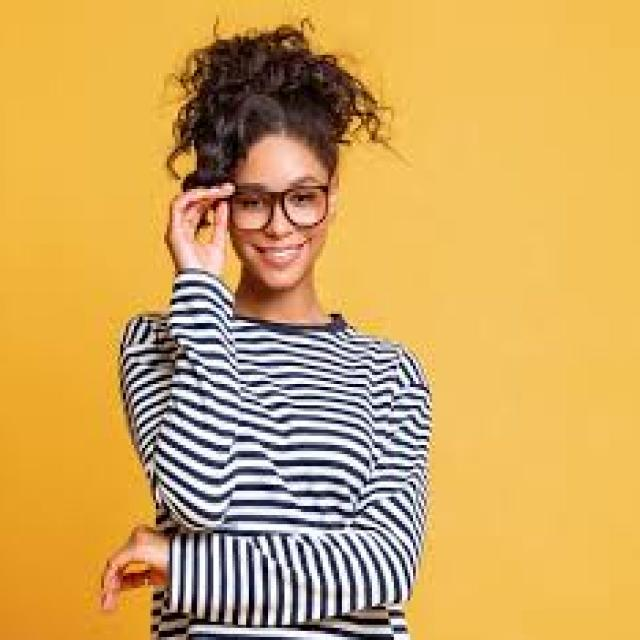Glasses: (208, 171, 344, 244)
